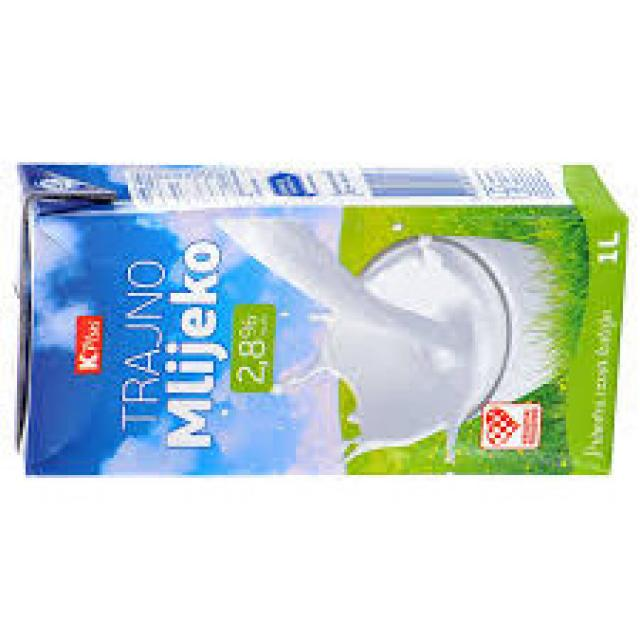non_white_jug: (9, 158, 632, 480)
